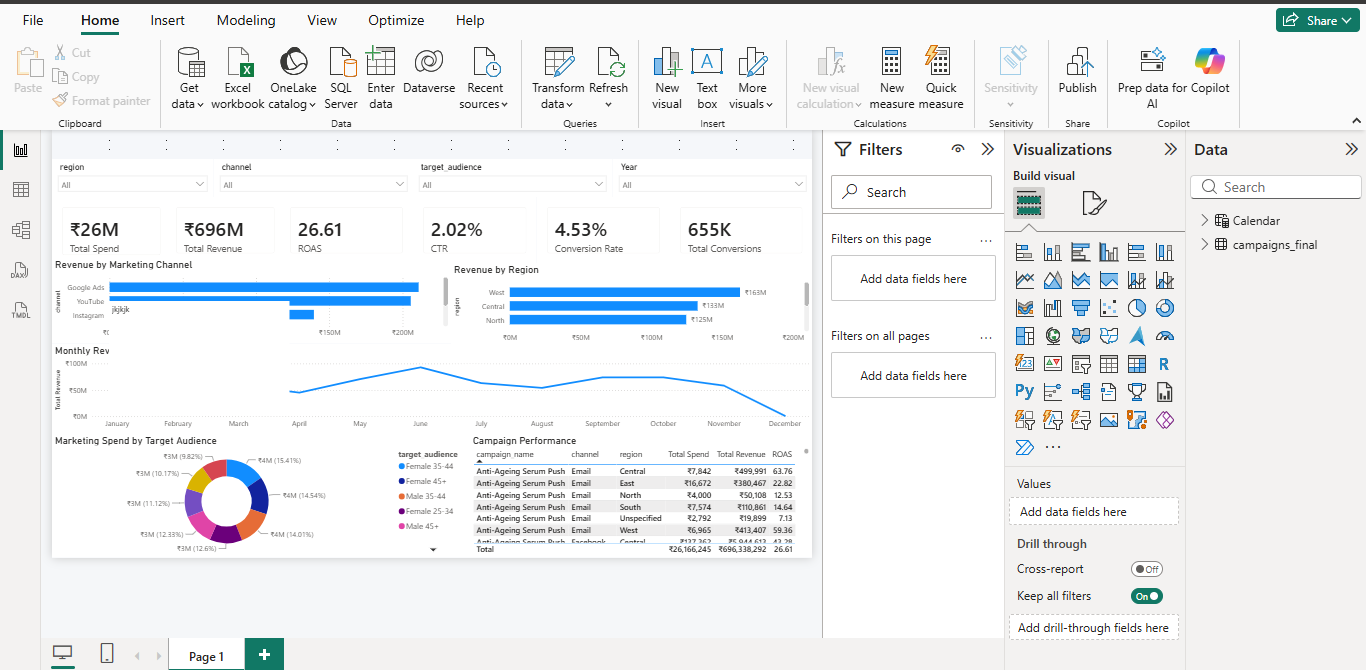

What the dashboard file says about the page in this screenshot:
{"tool":"powerbi","page":{"name":"Marketing Dashboard","canvas":[1280,720],"ordinal":0},"visuals":[{"type":"cardVisual","title":"Total Spend","fields":{"Data":["campaigns_final.Total Spend"]},"box":[0,112,200,115],"z":0},{"type":"cardVisual","title":"Total Spend","fields":{"Data":["campaigns_final.Total Revenue"]},"box":[192,112,200,112],"z":1000},{"type":"cardVisual","title":"Total Spend","fields":{"Data":["campaigns_final.ROAS"]},"box":[384,112,224,112],"z":2000},{"type":"cardVisual","title":"Total Spend","fields":{"Data":["campaigns_final.CTR"]},"box":[608,112,208,112],"z":3000},{"type":"cardVisual","title":"Total Spend","fields":{"Data":["campaigns_final.Conversion Rate"]},"box":[816,112,224,112],"z":4000},{"type":"cardVisual","title":"Total Spend","fields":{"Data":["campaigns_final.Total Conversions"]},"box":[1040,112,240,112],"z":5000},{"type":"clusteredBarChart","title":"Revenue by Marketing Channel","fields":{"Category":["campaigns_final.channel"],"Y":["campaigns_final.Total Revenue"]},"box":[0,224,640,144],"z":6000},{"type":"clusteredBarChart","title":"Revenue by Region","fields":{"Category":["campaigns_final.region"],"Y":["campaigns_final.Total Revenue"]},"box":[640,224,640,144],"z":7000},{"type":"lineChart","title":"Monthly Revenue Trend","fields":{"Y":["campaigns_final.Total Revenue"],"Category":["Calendar.Month Name"]},"box":[0,360,1280,152],"z":8000},{"type":"donutChart","title":"Marketing Spend by Target Audience","fields":{"Category":["campaigns_final.target_audience"],"Y":["campaigns_final.Total Spend"]},"box":[0,512,704,208],"z":9000},{"type":"tableEx","title":"Campaign Performance","fields":{"Values":["campaigns_final.campaign_name","campaigns_final.channel","campaigns_final.region","campaigns_final.Total Spend","campaigns_final.Total Revenue","campaigns_final.ROAS"]},"box":[704,512,576,208],"z":10000},{"type":"slicer","fields":{"Values":["campaigns_final.region"]},"box":[0,48,272,64],"z":11000},{"type":"slicer","fields":{"Values":["campaigns_final.channel"]},"box":[272,48,336,64],"z":12000},{"type":"slicer","fields":{"Values":["Calendar.Year"]},"box":[944,48,336,64],"z":13000},{"type":"slicer","fields":{"Values":["campaigns_final.target_audience"]},"box":[608,48,336,64],"z":14000},{"type":"textbox","box":[0,0,1280,48],"z":15001}]}

Visuals, with their boxes on the page's 1280x720 design canvas (x1, y1, x2, y2). These are canvas units, not pixel positions in the 1366x670 screenshot, which may show the page scaled, cropped or inside an application window:
"Total Spend" cardVisual: 0:112:200:227
"Total Spend" cardVisual: 192:112:392:224
"Total Spend" cardVisual: 384:112:608:224
"Total Spend" cardVisual: 608:112:816:224
"Total Spend" cardVisual: 816:112:1040:224
"Total Spend" cardVisual: 1040:112:1280:224
"Revenue by Marketing Channel" clusteredBarChart: 0:224:640:368
"Revenue by Region" clusteredBarChart: 640:224:1280:368
"Monthly Revenue Trend" lineChart: 0:360:1280:512
"Marketing Spend by Target Audience" donutChart: 0:512:704:720
"Campaign Performance" tableEx: 704:512:1280:720
slicer - campaigns_final.region: 0:48:272:112
slicer - campaigns_final.channel: 272:48:608:112
slicer - Calendar.Year: 944:48:1280:112
slicer - campaigns_final.target_audience: 608:48:944:112
textbox: 0:0:1280:48
